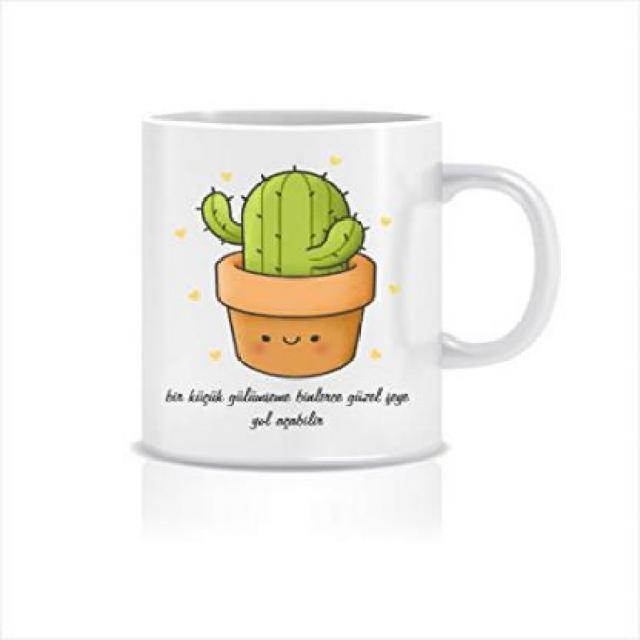taza: (123, 102, 572, 484)
